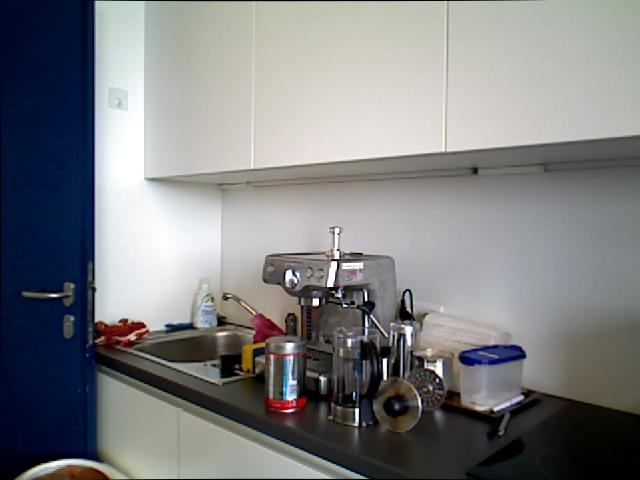bench: (187, 273, 221, 330)
couch: (127, 317, 276, 370)
handbag: (325, 322, 385, 430)
